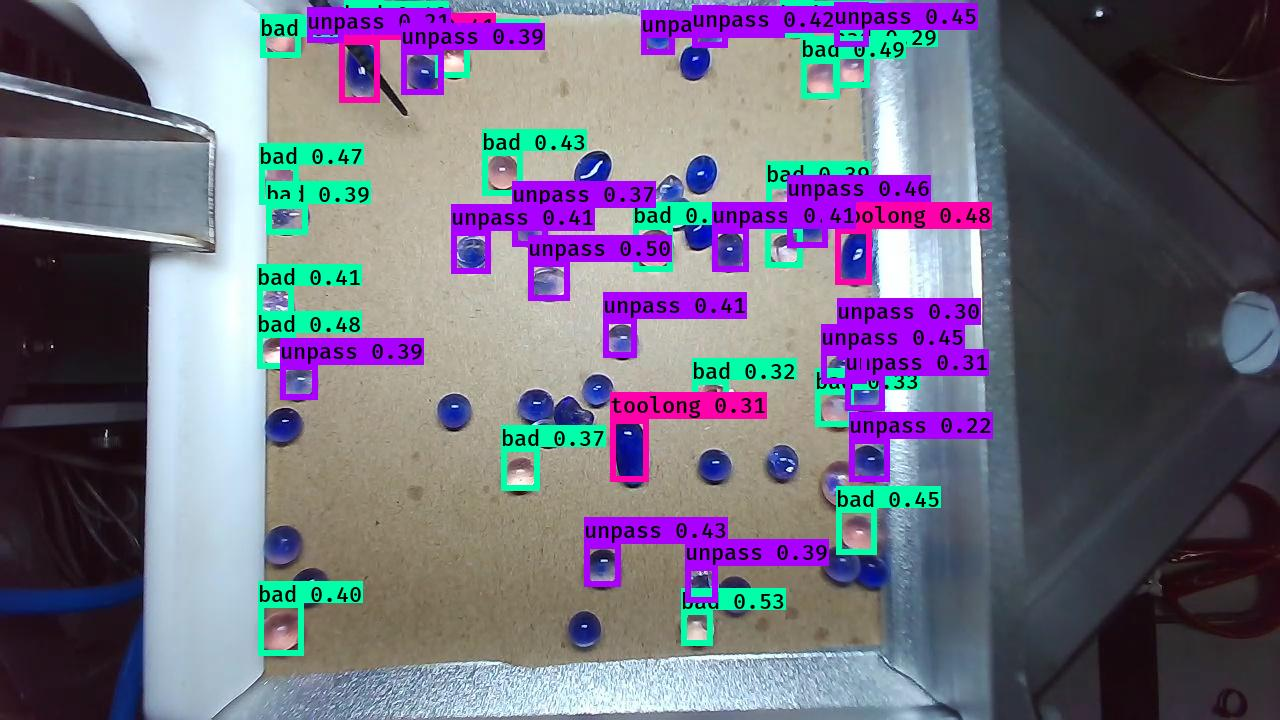bad: (254, 611, 307, 655), (259, 16, 305, 60), (820, 459, 861, 507), (675, 608, 716, 651), (638, 226, 677, 268), (696, 378, 740, 415), (481, 153, 522, 192), (345, 1, 384, 40), (842, 514, 880, 554), (836, 49, 874, 89), (762, 233, 800, 272), (269, 205, 313, 238), (260, 168, 299, 205), (501, 452, 538, 491), (258, 288, 295, 326), (765, 189, 804, 225), (785, 1, 821, 39), (804, 61, 840, 97), (436, 43, 472, 78), (819, 396, 856, 430), (529, 419, 564, 452), (260, 334, 295, 364)
defact: (649, 170, 684, 209)
pass: (567, 147, 615, 197), (551, 391, 596, 443), (261, 526, 304, 569), (818, 545, 863, 585), (263, 408, 306, 449), (287, 568, 330, 609), (825, 165, 866, 207), (515, 391, 554, 435), (435, 393, 476, 434), (716, 573, 754, 616), (763, 441, 800, 485), (579, 367, 614, 412), (674, 42, 712, 83), (695, 443, 731, 486), (566, 609, 604, 649), (853, 556, 895, 592), (683, 214, 719, 255), (682, 155, 717, 197), (715, 231, 746, 270)
toolong: (610, 416, 655, 488), (344, 39, 381, 100), (837, 228, 873, 290)
unpass: (830, 4, 874, 53), (582, 546, 626, 589), (457, 232, 497, 278), (528, 264, 570, 306), (790, 208, 829, 248), (277, 364, 319, 401), (403, 55, 440, 95), (510, 214, 549, 251), (685, 568, 721, 607), (696, 10, 733, 47), (845, 319, 883, 354), (852, 443, 888, 479), (846, 380, 882, 416), (826, 352, 863, 387), (642, 13, 675, 51), (606, 323, 639, 360), (660, 197, 693, 228)
